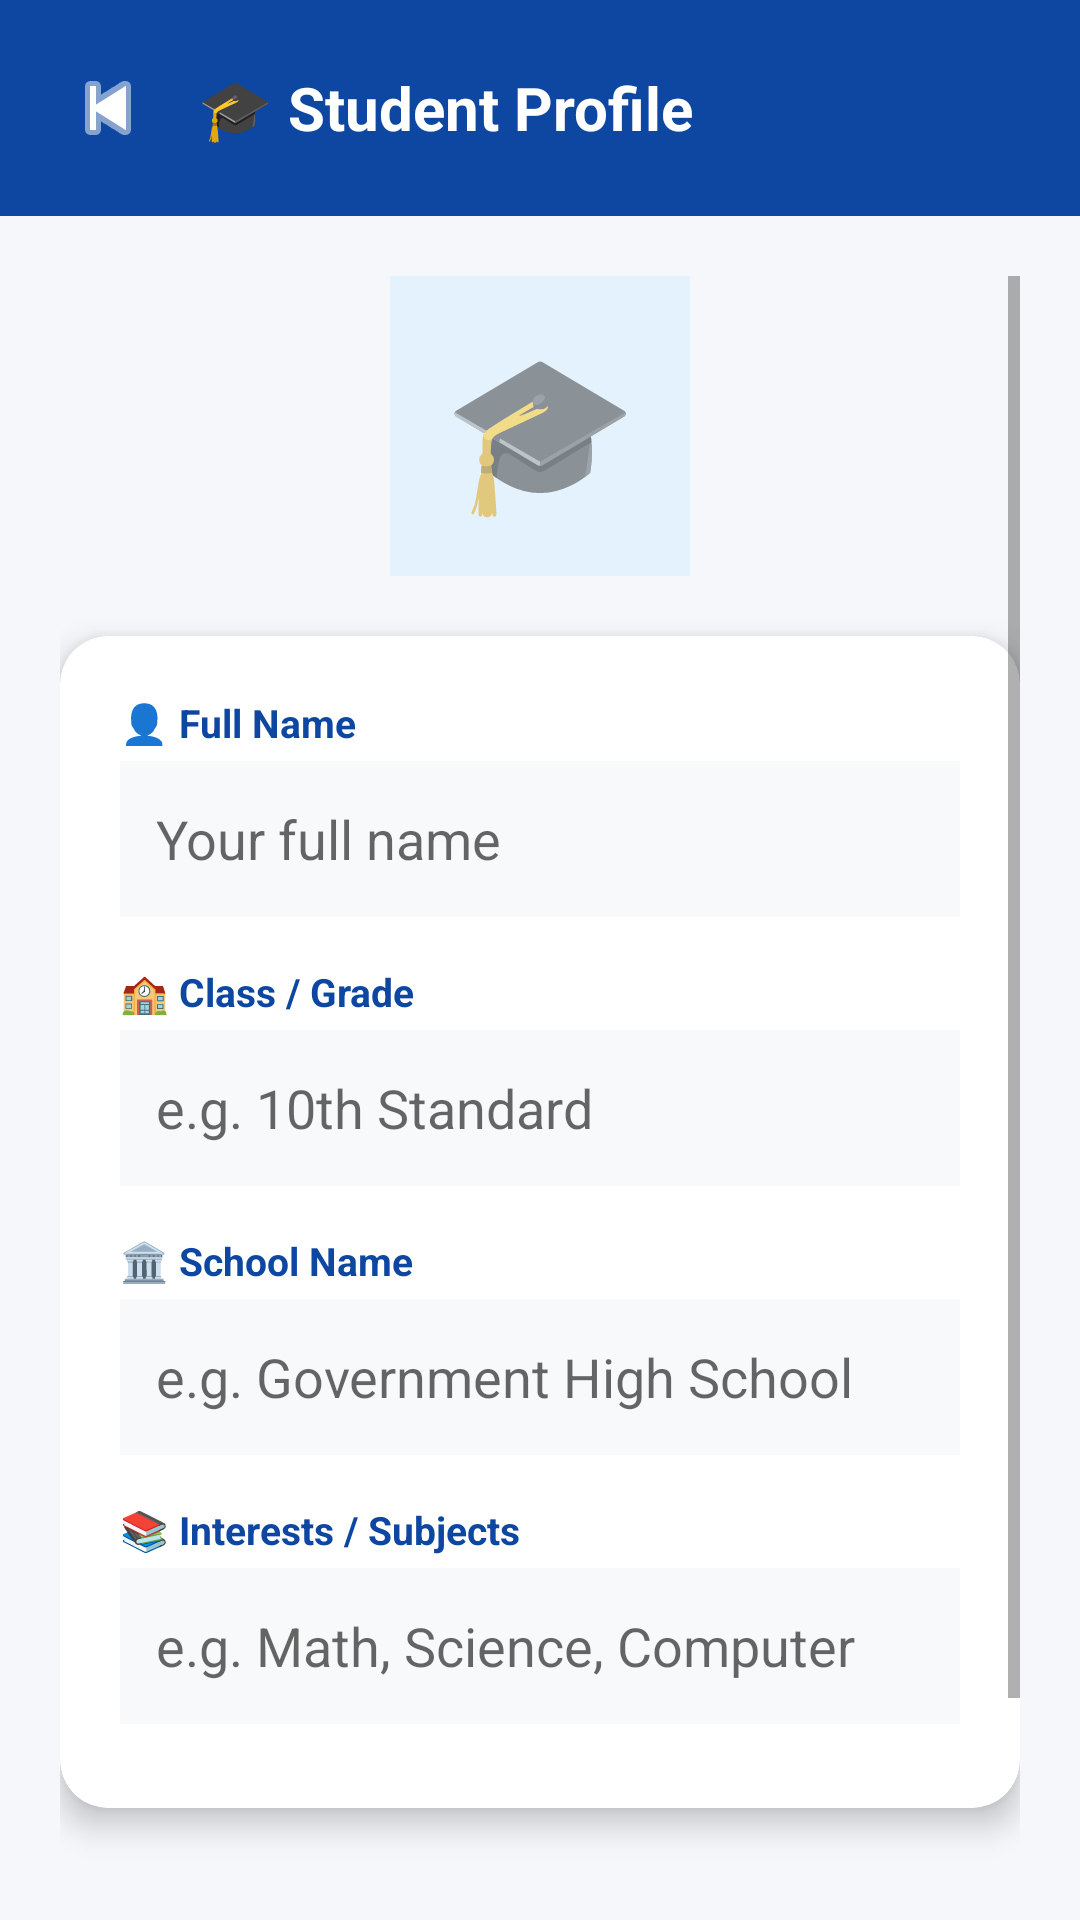

Named icons in this screenshot (1080 x 1920) and their centers, (x=x, y=y):
Back: (x=108, y=108)
